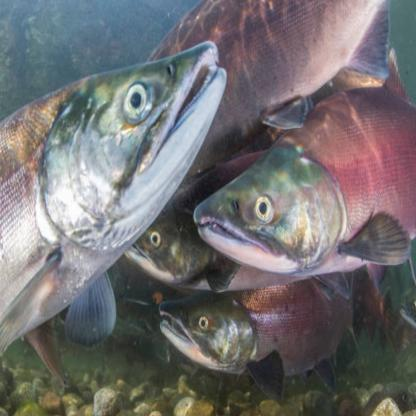sockeye: (0, 48, 220, 338), (198, 97, 416, 277), (161, 292, 382, 361)
sockeye-group: (0, 7, 412, 366)
